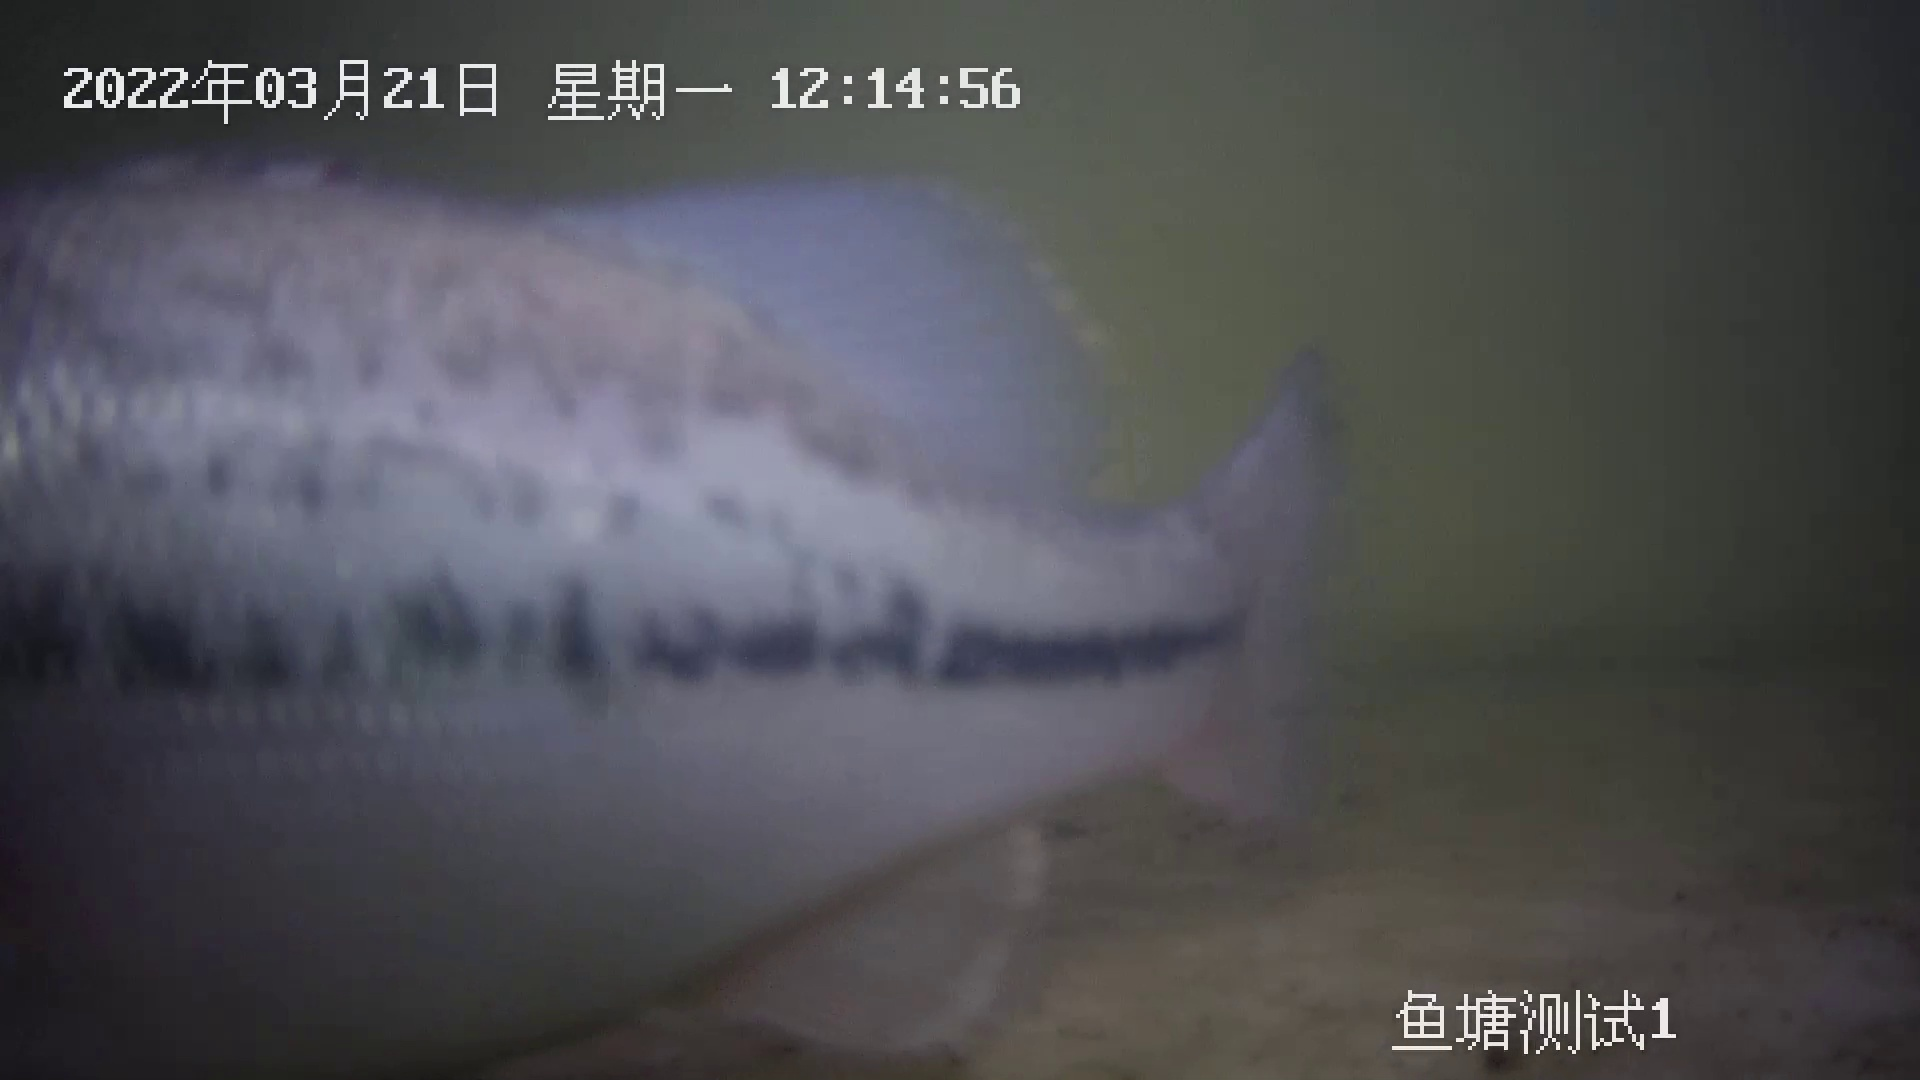fry: (7, 127, 1340, 1080)
